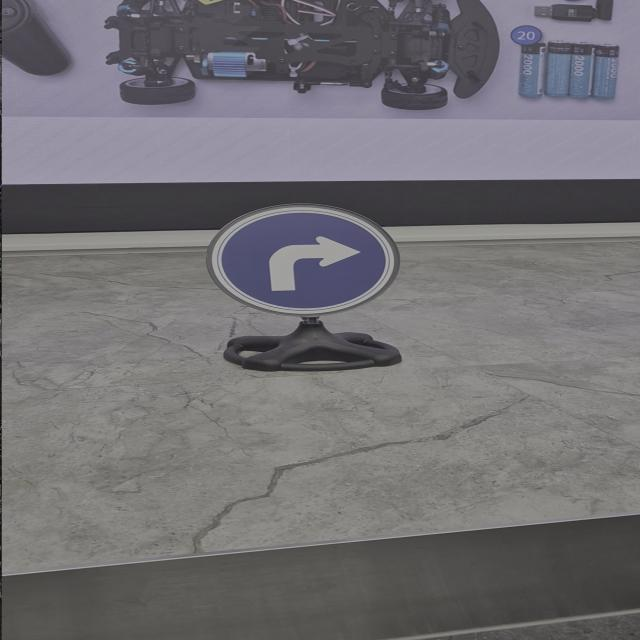right_dierection: (208, 198, 404, 316)
